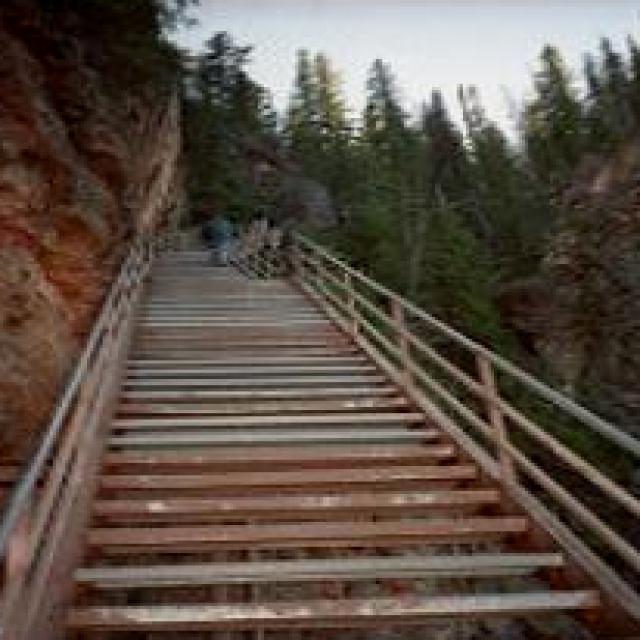upstair: (113, 389, 538, 640)
